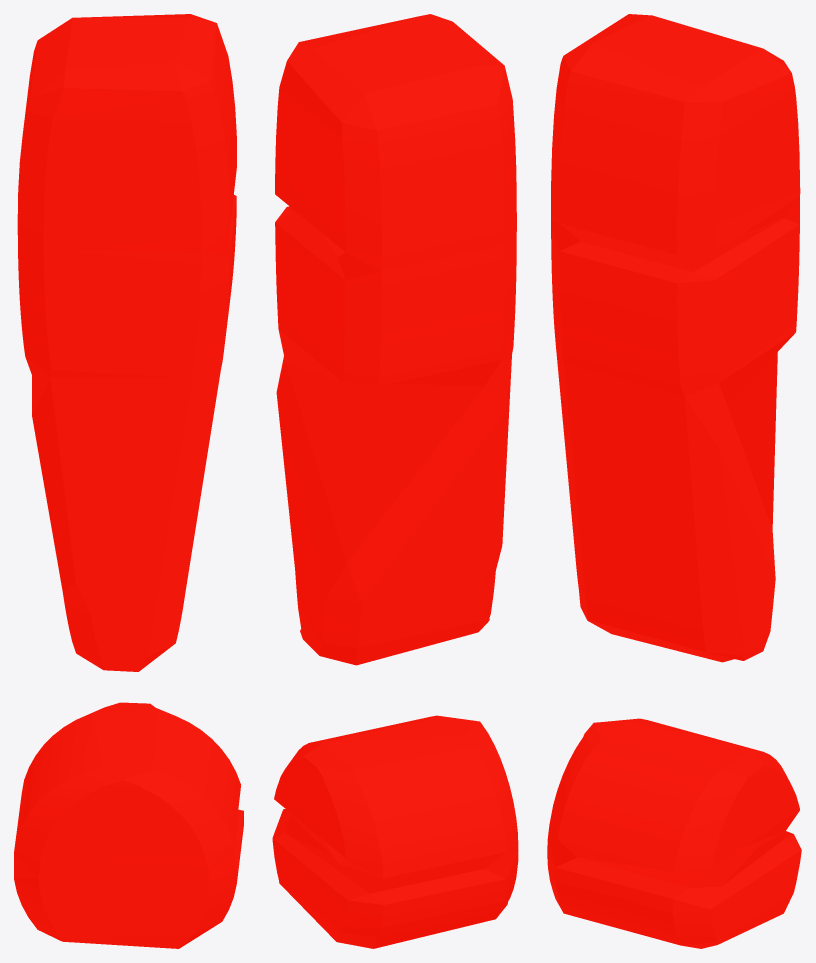
The model's file is wakeup.glb.
3 renders of one model, left to right at view 1: azimuth 30°, elevation 25°; view 2: azimuth 150°, elevation 25°; view 3: azimuth 270°, elevation 25°, orthographic.
Parts seen in each view (by area): view 1: Text; view 2: Text; view 3: Text.
Boxes of the visible parts, box(x1,y1,x2,y2) form: Text: box(14, 14, 243, 948); Text: box(272, 14, 518, 948); Text: box(547, 14, 801, 948).
Bounding box in the file's own units: 0.0914 × 0.3374 × 0.0885.
